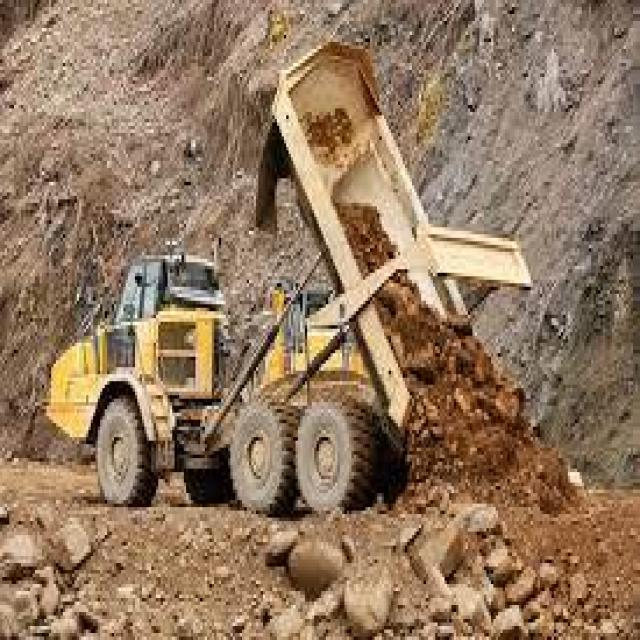dump_truck: (52, 40, 536, 520)
